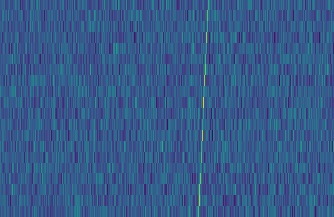signal: (194, 0, 213, 217)
